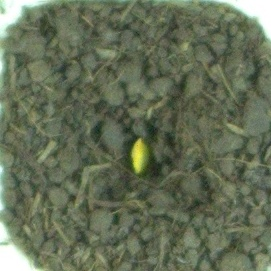chilli seed: (127, 135, 156, 176)
